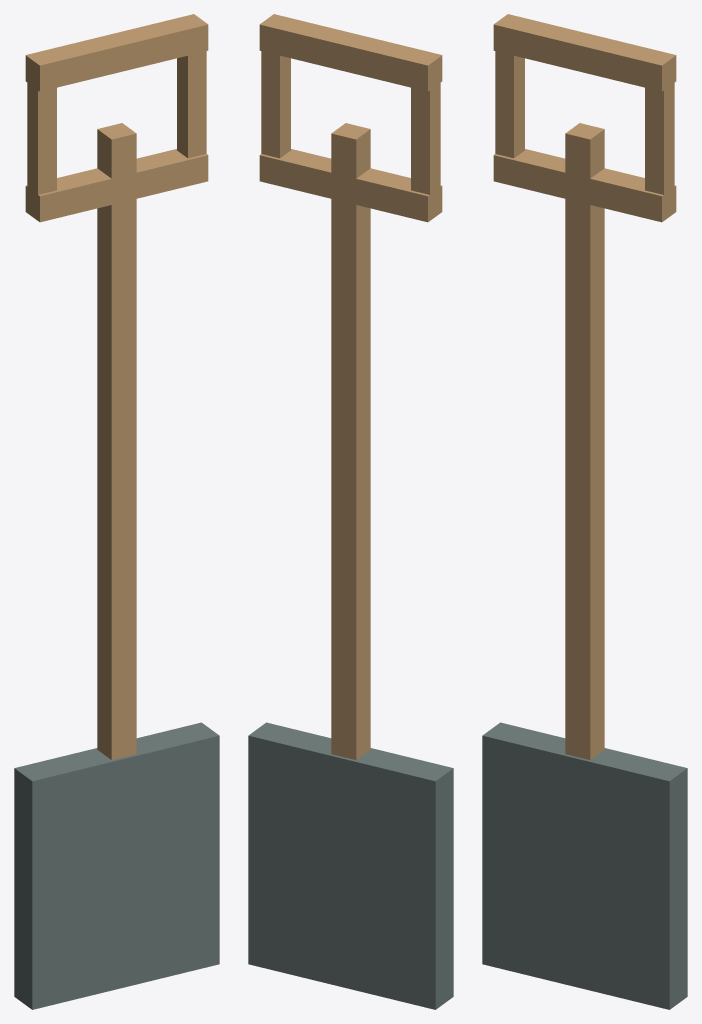
The model's file is cozy-farm-and-homestead-spade-5c2653ca__19396.glb.
The picture shows the model from 3 angles, left to right: view 1: azimuth 30°, elevation 25°; view 2: azimuth 150°, elevation 25°; view 3: azimuth 330°, elevation 25°; orthographic projection.
Visible parts, largest first — view 1: spade; view 2: spade; view 3: spade.
Part boxes in pixels (left/top/right/bottom): spade: left=14, top=14, right=219, bottom=1009; spade: left=248, top=14, right=453, bottom=1009; spade: left=482, top=14, right=687, bottom=1009.
Bounding box in the file's own units: 0.3 × 1.44 × 0.05.
